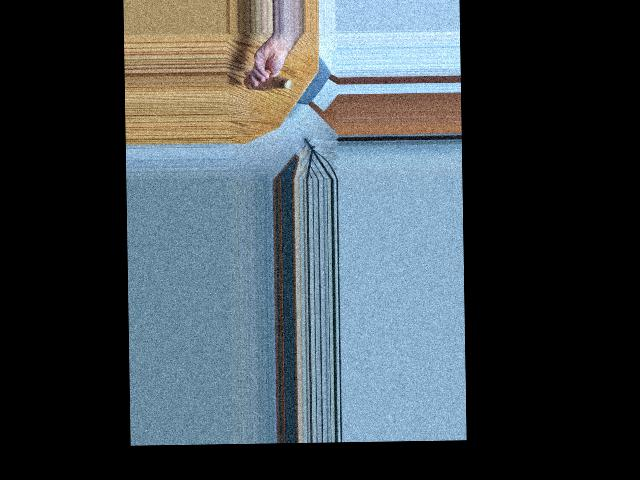sweet_potato: (243, 71, 292, 91)
